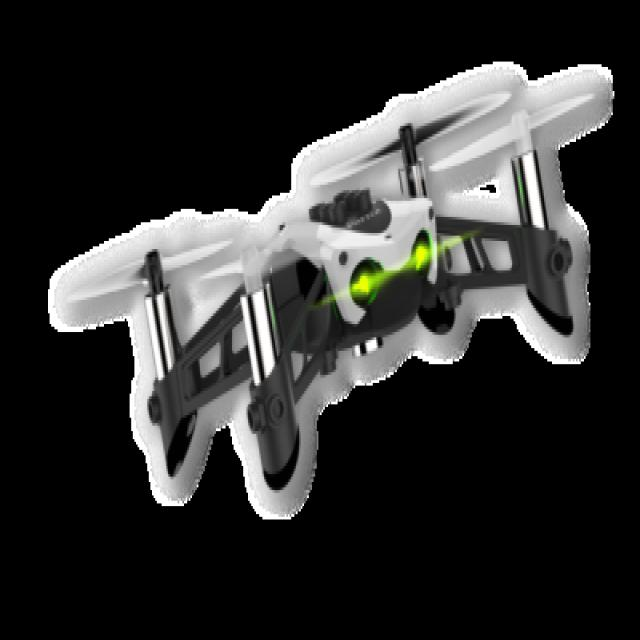drone: (45, 61, 613, 524)
